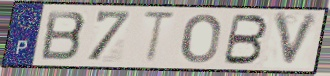7: (86, 9, 133, 64)
B: (38, 9, 88, 62), (220, 13, 270, 66)
O: (180, 13, 222, 65)
T: (140, 10, 179, 66)
V: (272, 12, 323, 70)
